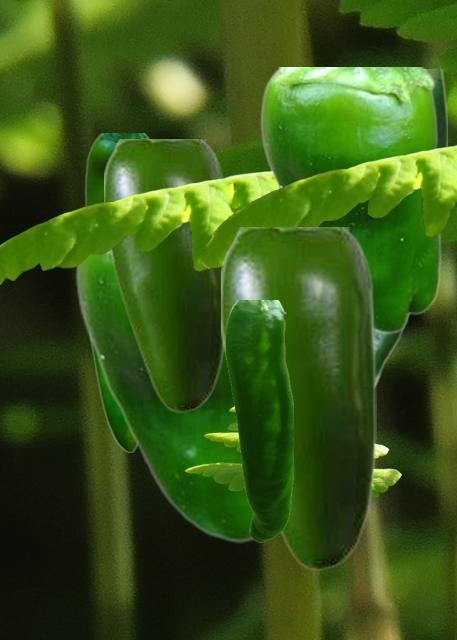green_chili: (221, 227, 375, 570), (74, 252, 253, 542), (259, 67, 440, 333), (104, 139, 226, 412), (375, 69, 446, 387), (84, 133, 150, 451), (225, 300, 292, 541)
